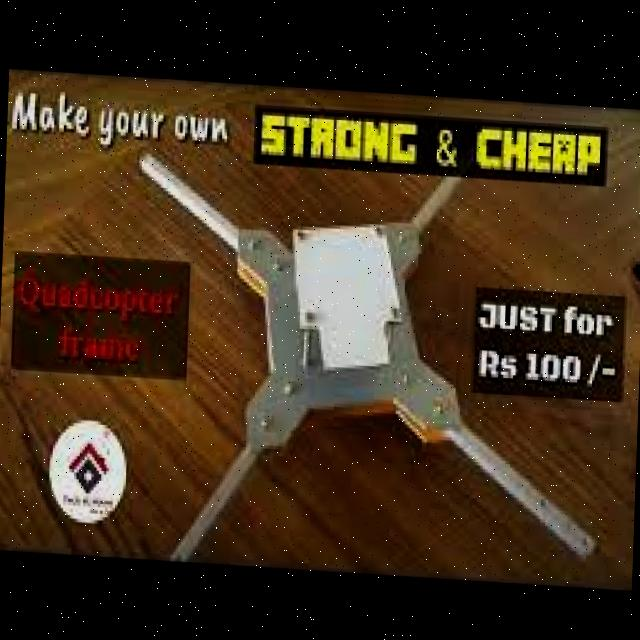drone: (122, 147, 606, 563)
